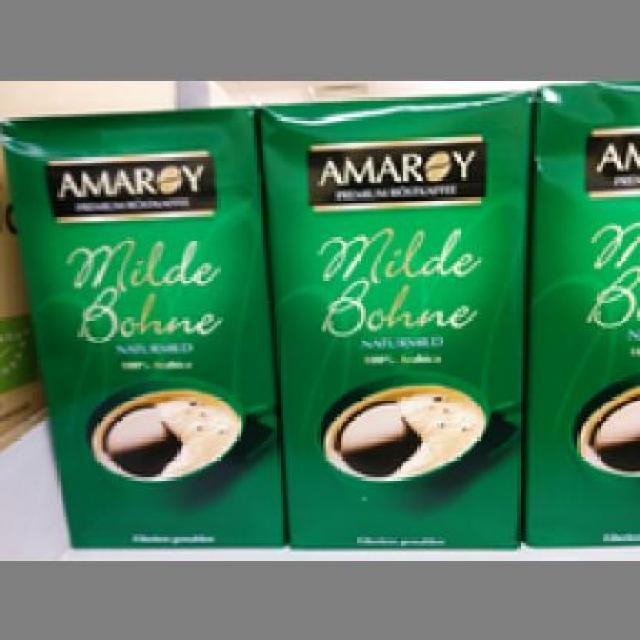Coffee: (252, 83, 532, 546), (0, 103, 289, 546), (525, 77, 638, 554)
